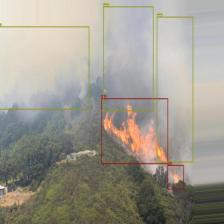fire: (101, 98, 168, 164), (167, 165, 184, 190)
smoke: (0, 26, 89, 109), (156, 16, 194, 162), (103, 6, 154, 111)
